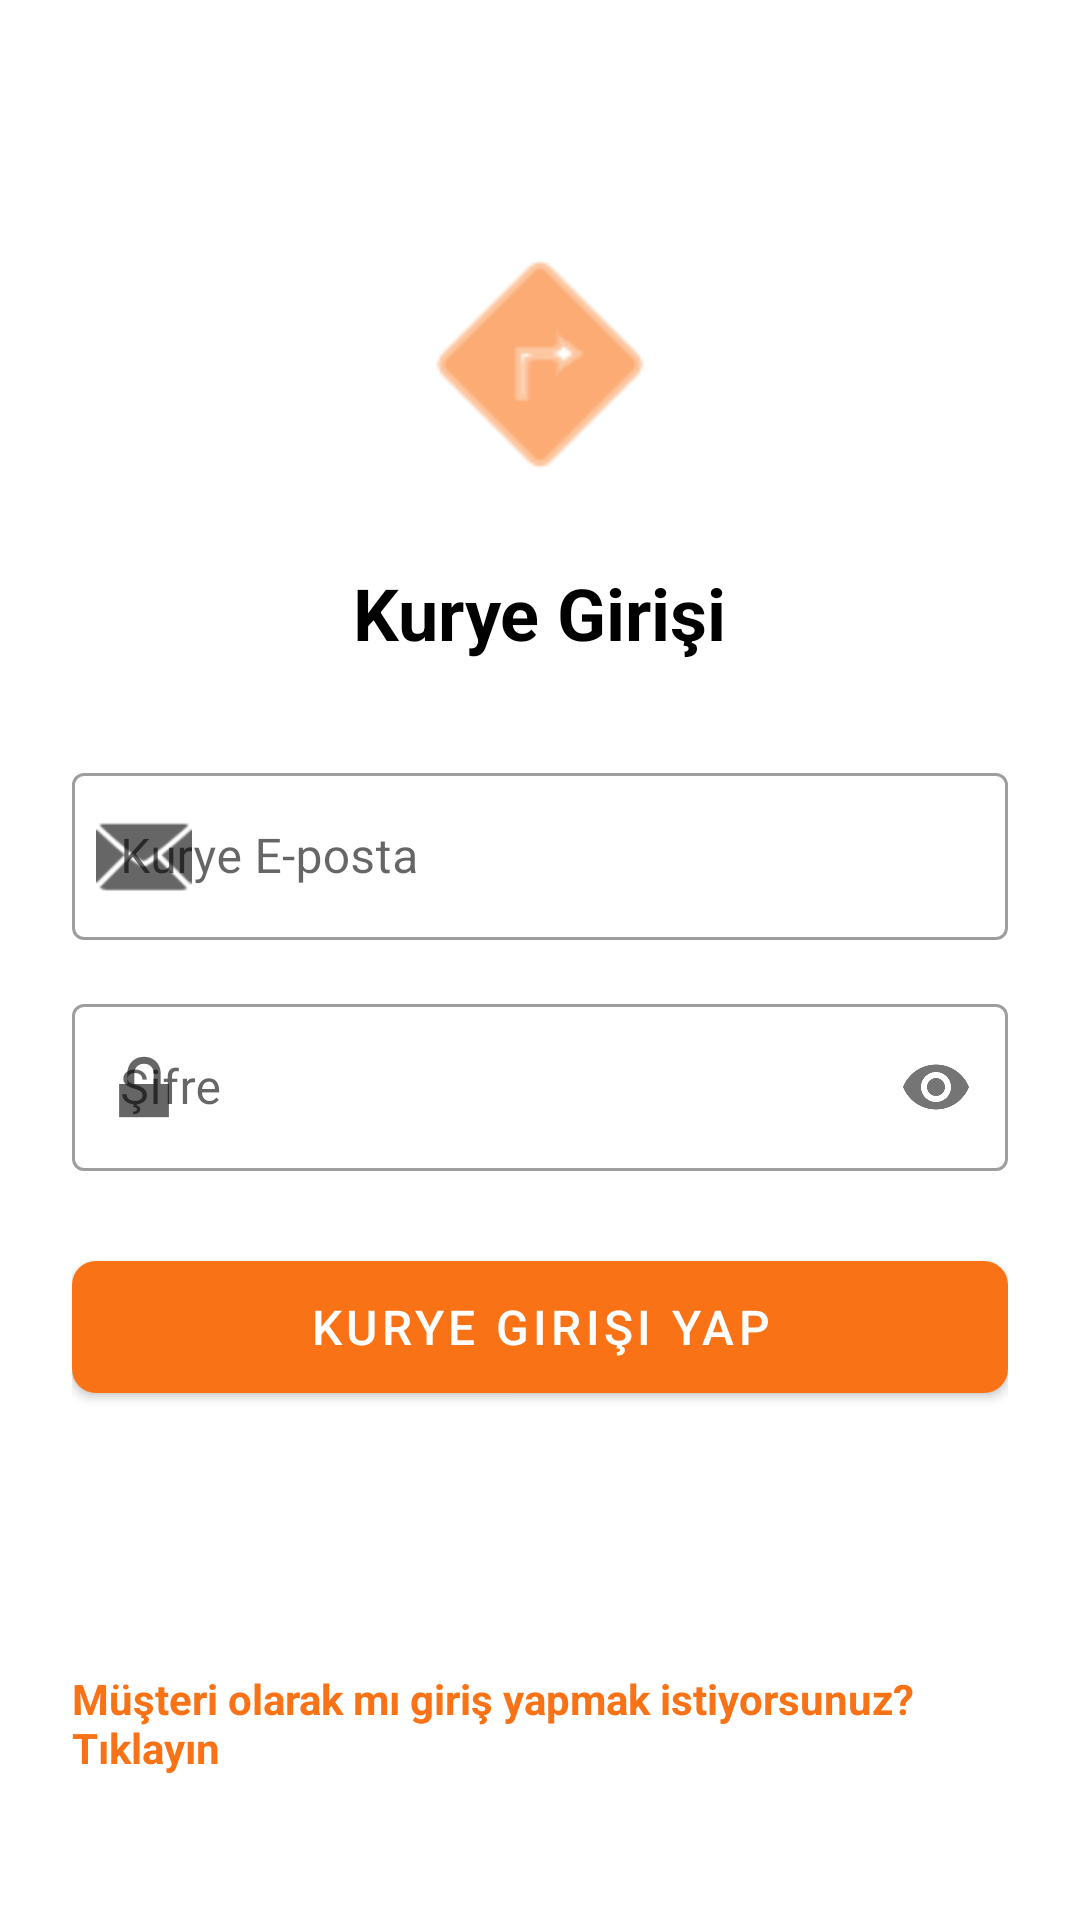

Screen size 1080×1920. Icon name, then its box in pixels as (x1, y1, x2, y2):
directions: (436, 262, 643, 467)
